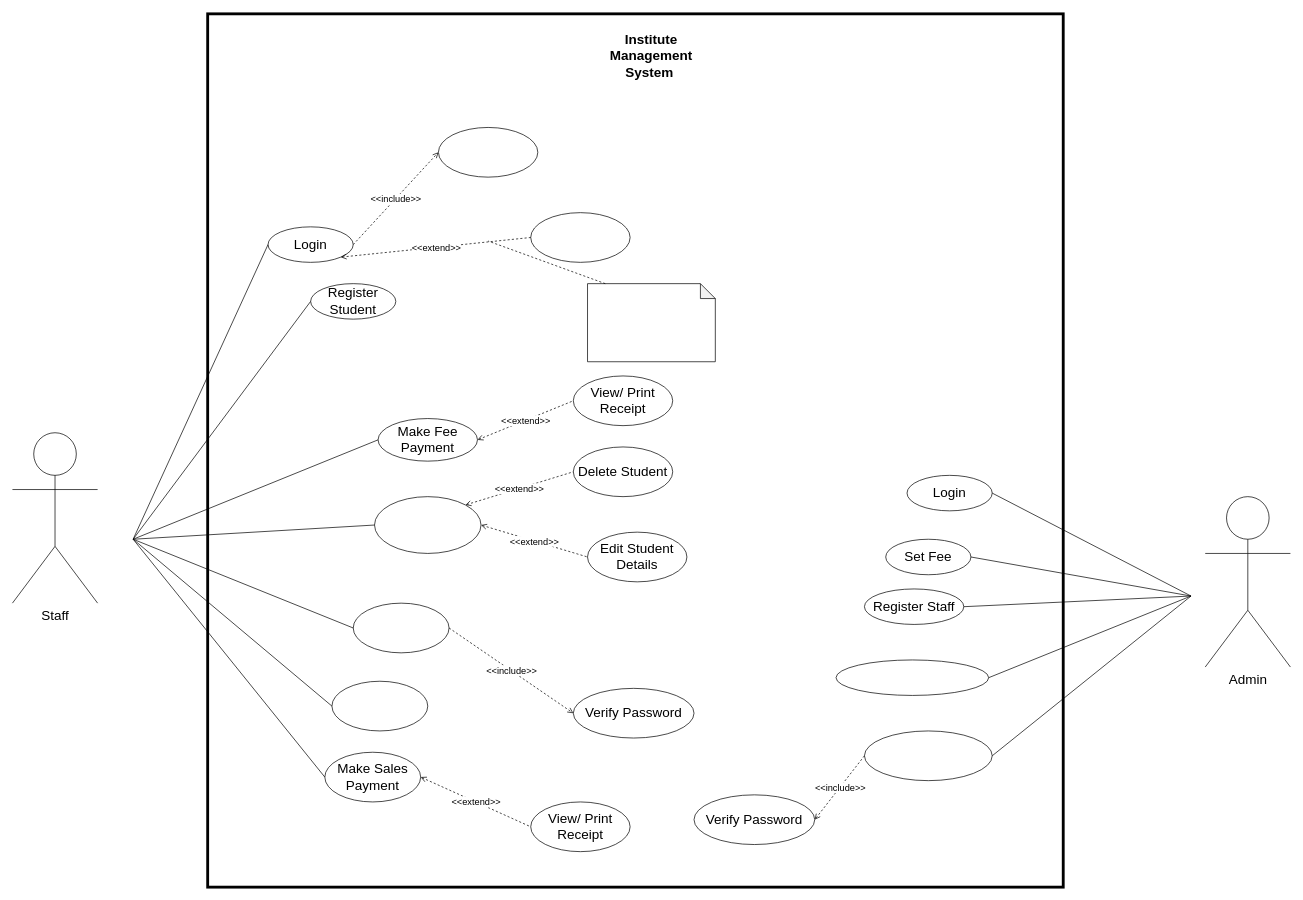
Some shapes in this 1303 by 900 pixel diagram are drawn without their labels. The box of each missing label's shape, as (x1, y1, x2, y2) in pixels:
If Login Detail is incorect show error message: (587, 283, 715, 362)
Login Error Message: (530, 212, 630, 262)
Register Book: (331, 681, 428, 731)
Update admin password: (864, 730, 992, 781)
Update Profile: (353, 602, 449, 653)
Verify Login Details: (438, 127, 538, 177)
View Student Details: (374, 496, 481, 553)
View/ Print Reports: (835, 659, 989, 695)
